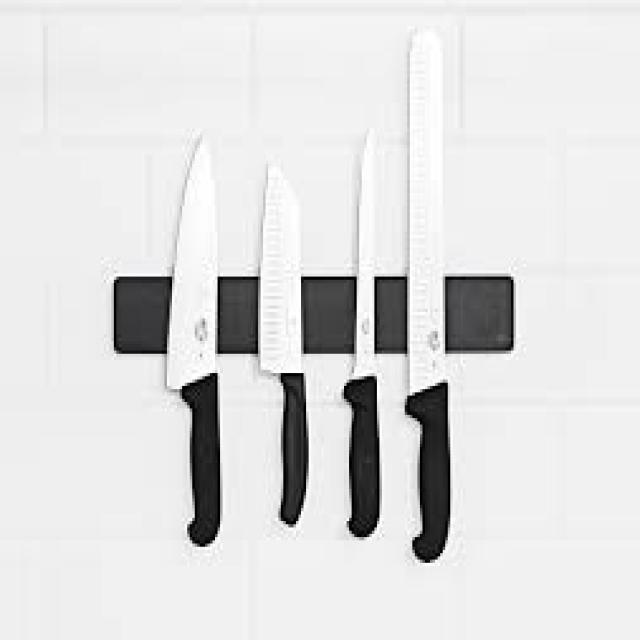knives: (125, 89, 253, 578), (402, 10, 469, 576), (249, 134, 337, 556)
